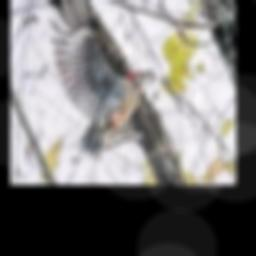Woodpecker: (50, 0, 153, 160)
